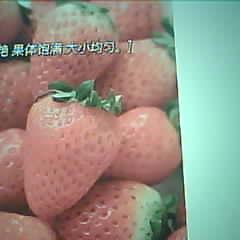straw-ripe: (24, 97, 121, 215)
